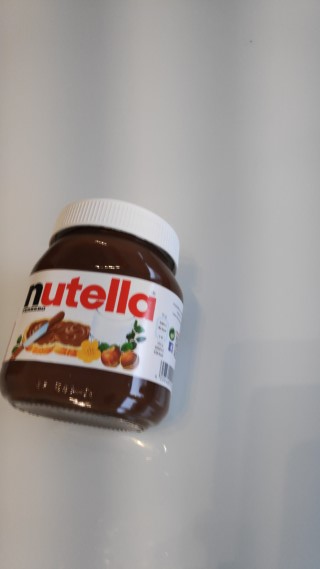nutella: (1, 195, 186, 435)
